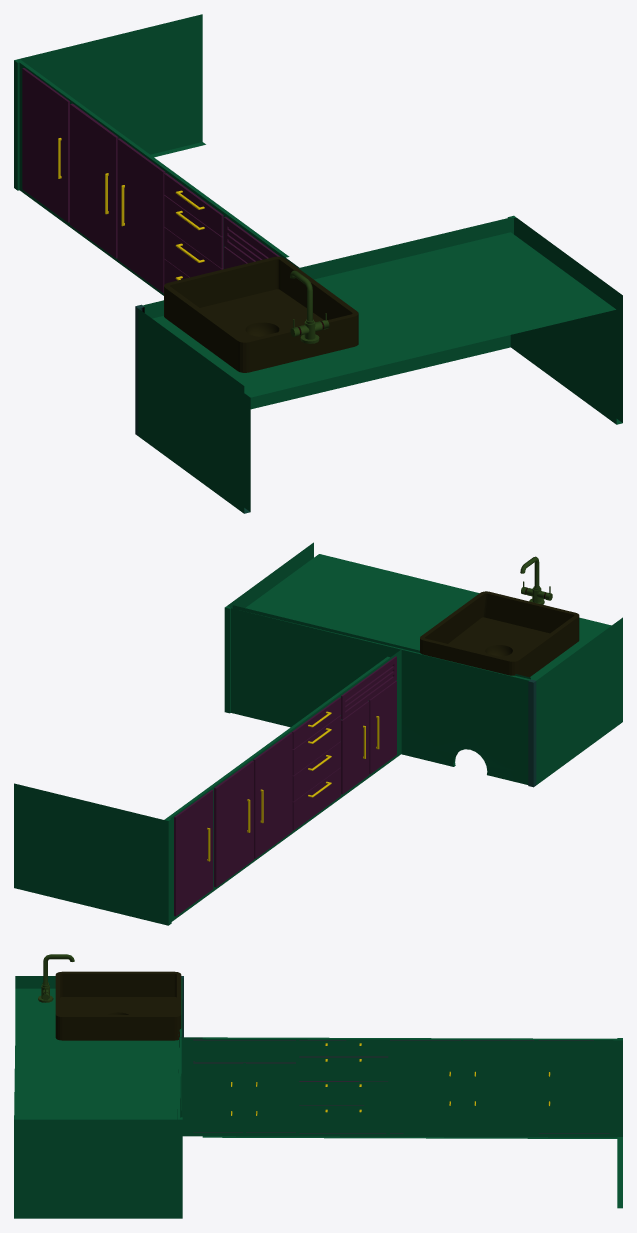
File: SM_TableDessous.fbx
3 renders of one model, top to bottom at view 1: azimuth 30°, elevation 25°; view 2: azimuth 150°, elevation 25°; view 3: azimuth 270°, elevation 25°, orthographic. The views are drawn at different scales.
Visible parts, largest first — view 1: polySurface149; view 2: polySurface149; view 3: polySurface149.
Part boxes in pixels (x1=…): polySurface149: x1=14, y1=14, x2=622, y2=513; polySurface149: x1=14, y1=542, x2=622, y2=925; polySurface149: x1=14, y1=954, x2=622, y2=1218.
Bounding box in the file's own units: 235 × 118 × 423.
